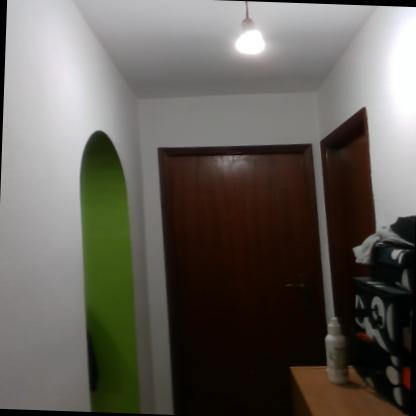closed: (138, 125, 328, 403)
